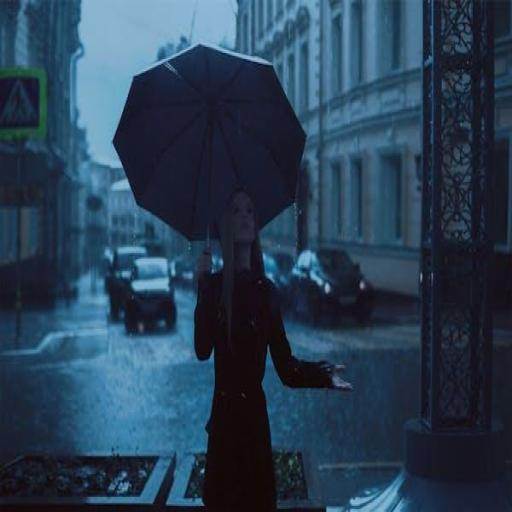guarda_chuva: (111, 41, 307, 344)
